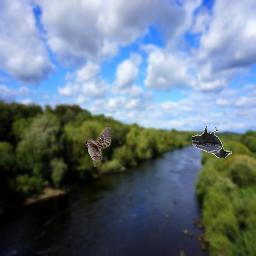Crow: (192, 125, 232, 158)
Sparrow: (84, 127, 111, 167)
